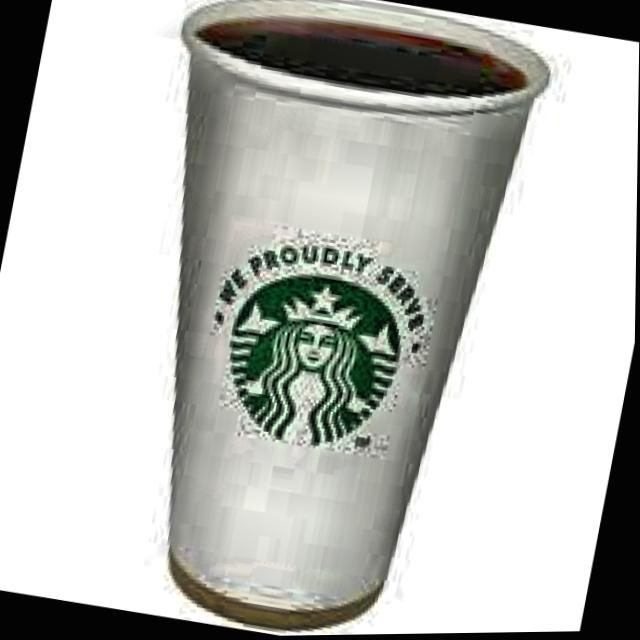Cup: (65, 0, 560, 639)
